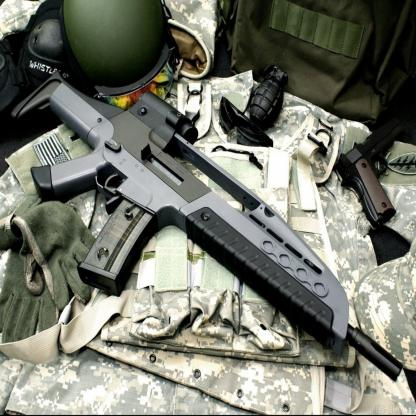Grenade: (251, 60, 288, 132)
Gun: (10, 70, 404, 382)
Pistol: (338, 108, 407, 227)
